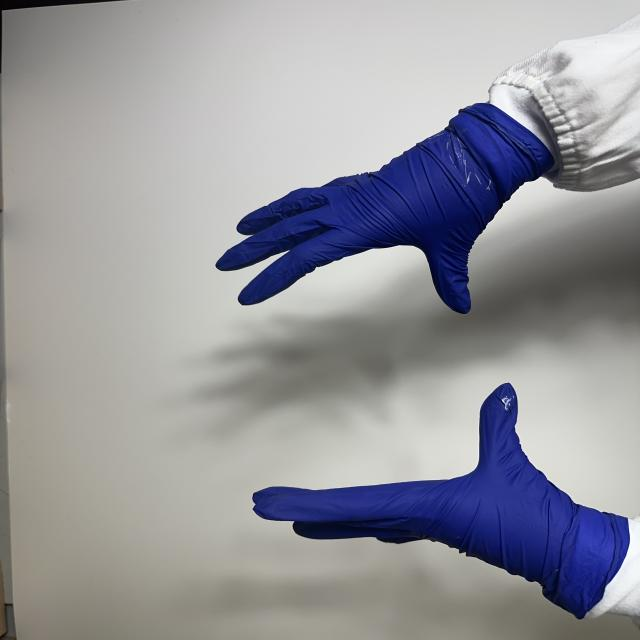gloves_contaminated: (253, 383, 630, 618), (217, 104, 550, 313)
